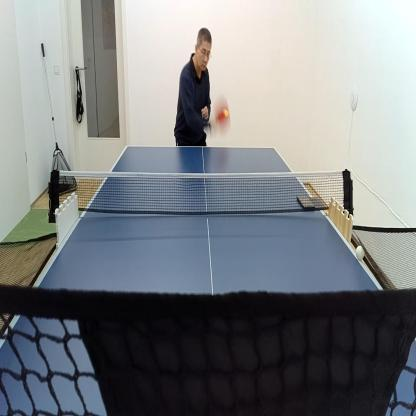Ball: (354, 243, 366, 262), (224, 108, 230, 118)
